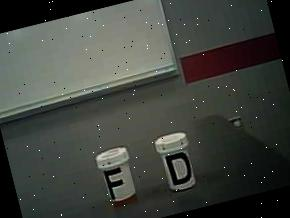Bottle D: (152, 124, 204, 198)
Bottle F: (91, 140, 144, 214)
